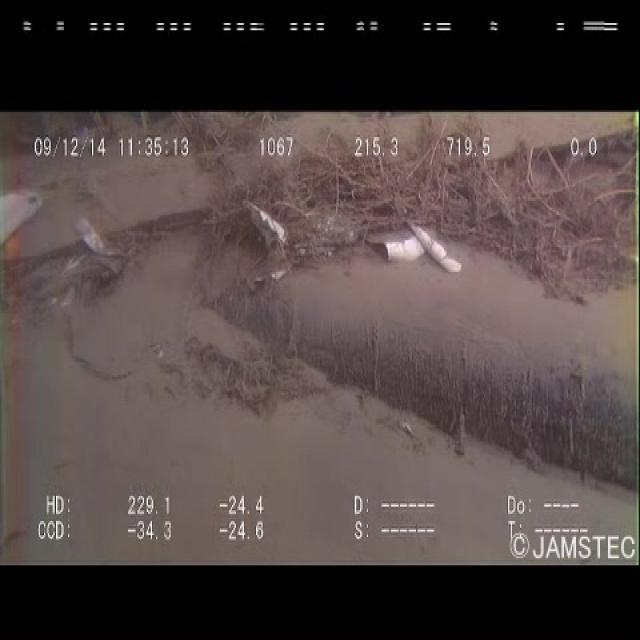plastic: (360, 204, 464, 306), (236, 192, 339, 286), (69, 210, 136, 284)
